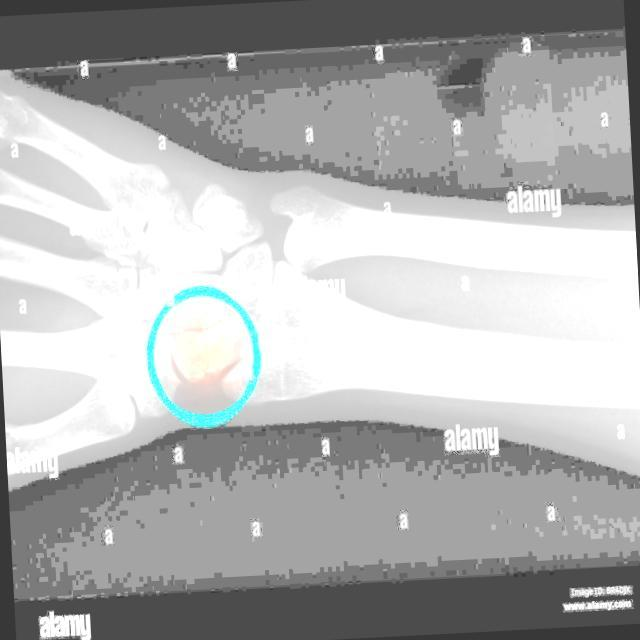Impact Fracture: (170, 324, 238, 396)
